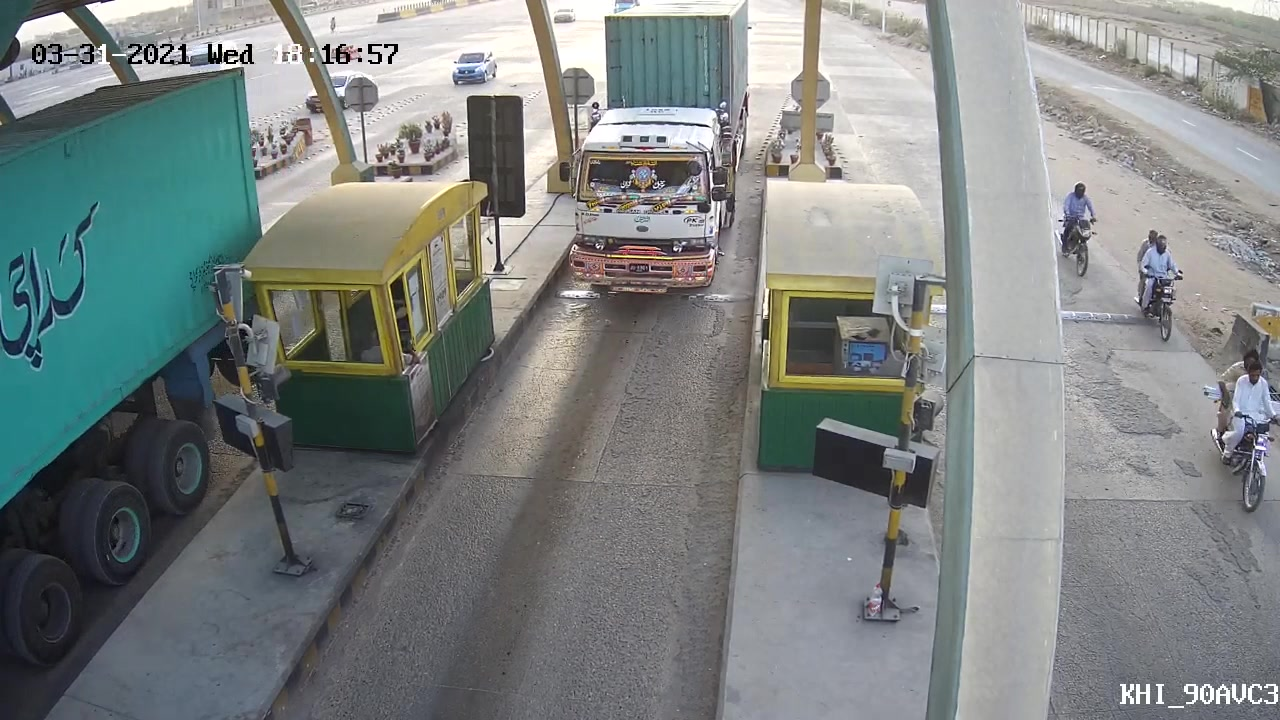F6: (559, 18, 744, 298)
